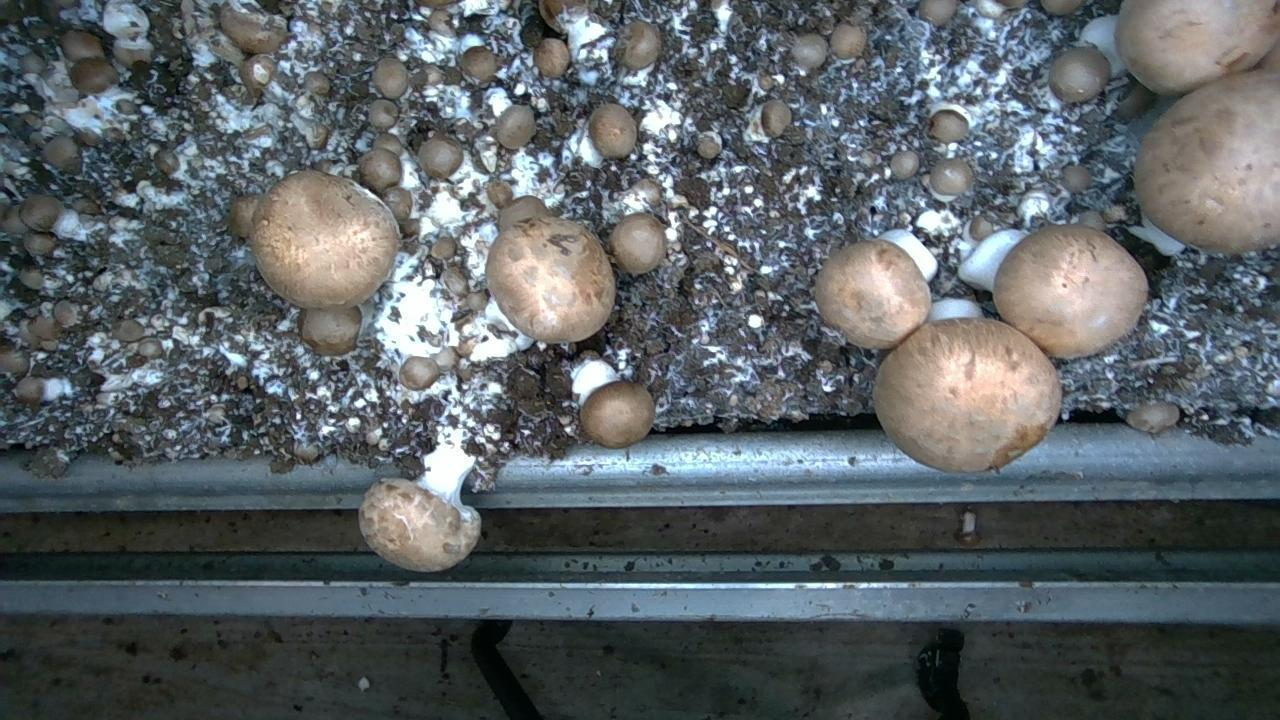BB: (874, 318, 1061, 472), (1134, 71, 1280, 254), (250, 170, 400, 310), (993, 225, 1148, 358), (486, 197, 615, 343), (815, 239, 931, 350), (359, 478, 481, 572), (580, 380, 655, 449), (609, 213, 667, 275), (1049, 47, 1111, 103), (219, 4, 288, 54), (299, 307, 362, 356), (588, 104, 637, 159), (615, 21, 662, 70), (417, 133, 464, 179), (358, 148, 402, 194), (494, 105, 536, 150), (69, 57, 118, 95), (929, 159, 974, 197), (372, 57, 409, 100), (534, 37, 571, 78), (60, 29, 105, 61), (399, 356, 440, 391), (229, 195, 261, 239), (461, 46, 498, 84), (791, 34, 828, 71), (830, 23, 867, 59), (929, 110, 969, 143), (382, 186, 413, 221), (1040, 0, 1086, 16)
